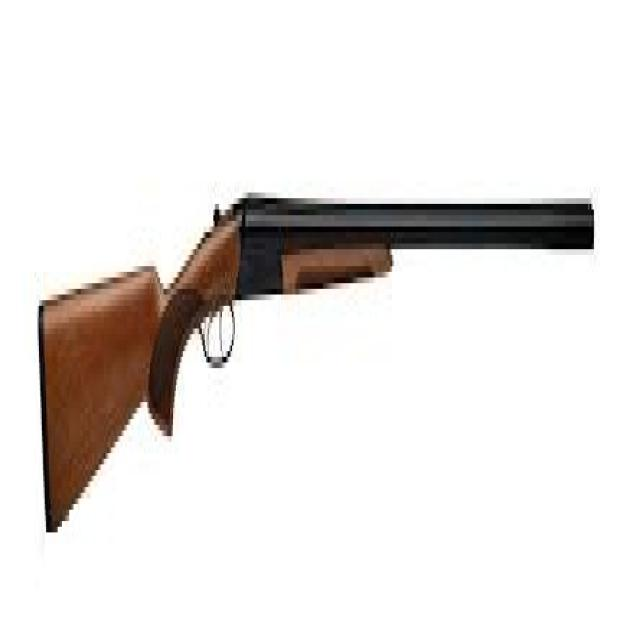rifle: (30, 154, 600, 567)
